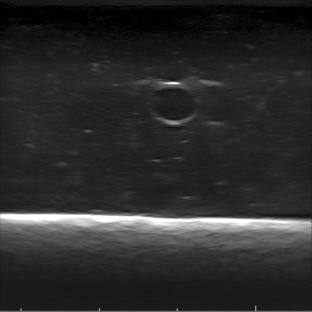vessel: (148, 81, 198, 126)
